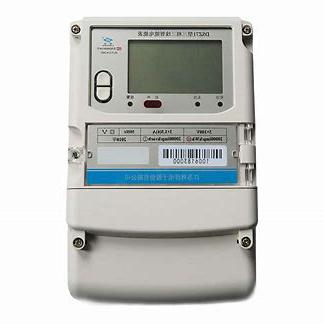digital: (67, 17, 257, 234)
